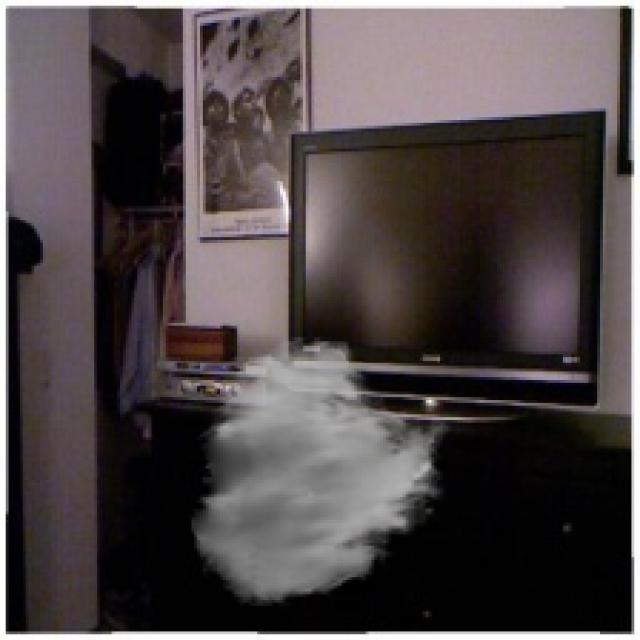smoke: (188, 334, 452, 609)
